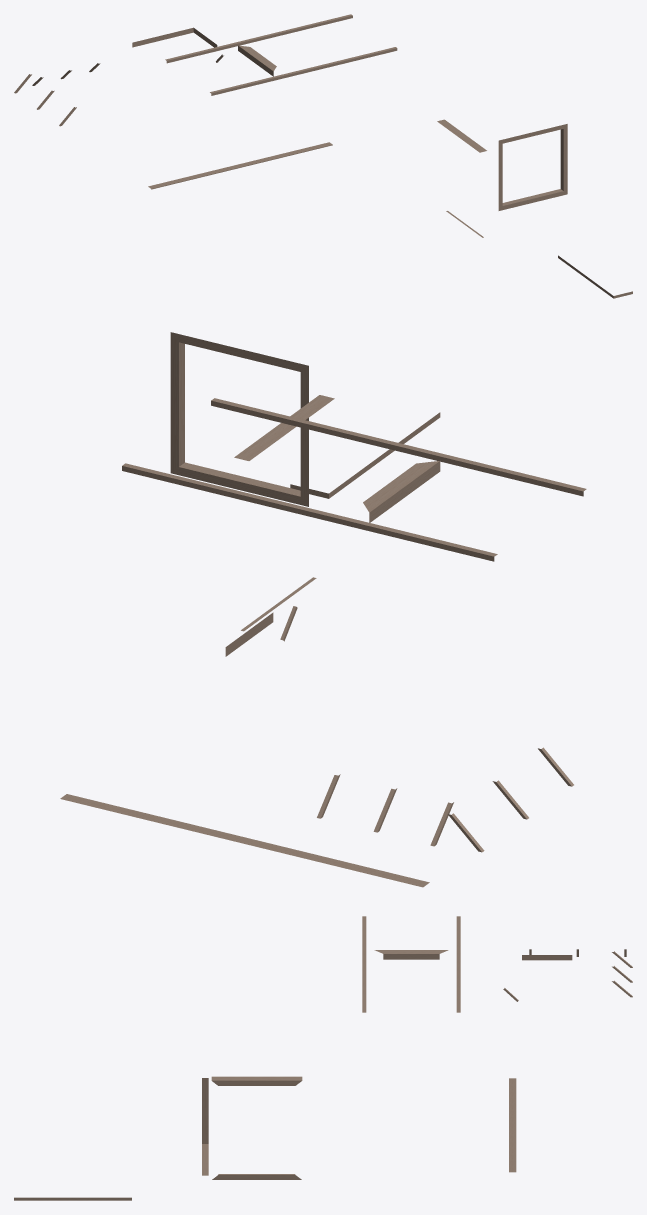
Rendered from kd_stage_135b75_4_17.glb.
3 views of the same model, one above another, from view 1: azimuth 30°, elevation 25°; view 2: azimuth 150°, elevation 25°; view 3: azimuth 270°, elevation 25° (orthographic). The views are drawn at different scales.
Parts seen in each view (by area): view 1: kd_stage_135b75_4_17; view 2: kd_stage_135b75_4_17; view 3: kd_stage_135b75_4_17.
Part boxes in pixels (x1=…): kd_stage_135b75_4_17: x1=14, y1=14, x2=632, y2=298; kd_stage_135b75_4_17: x1=60, y1=332, x2=586, y2=887; kd_stage_135b75_4_17: x1=14, y1=916, x2=632, y2=1200.
Size of the model in its own units: 6.89 by 2.81 by 9.88.
Materials: 1 (1 with a texture image).
